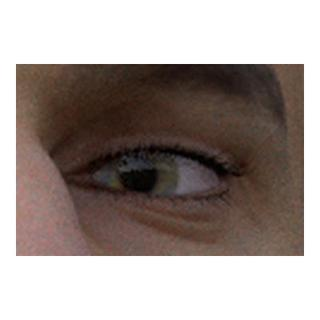pupil: (121, 159, 156, 194)
